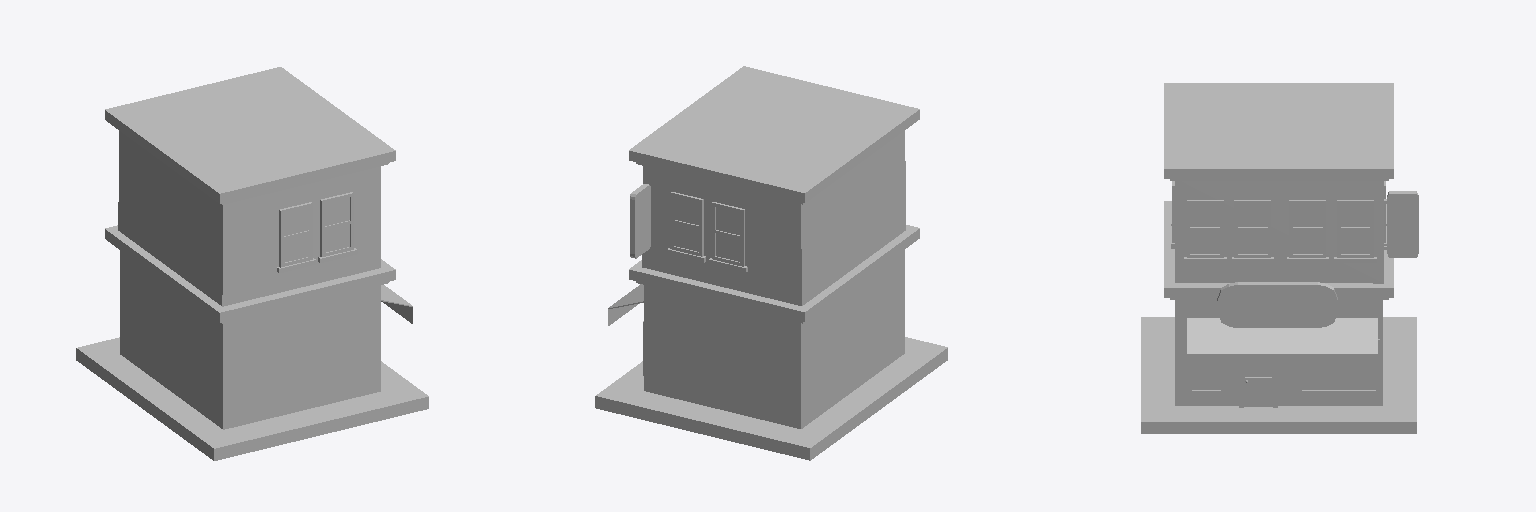
File: edificio1.obj
3 renders of one model, left to right at view 1: azimuth 30°, elevation 25°; view 2: azimuth 150°, elevation 25°; view 3: azimuth 270°, elevation 25°, orthographic.
Parts seen in each view (by area): view 1: polySurface5; view 2: polySurface5; view 3: polySurface5.
Part boxes in pixels (left/top/right/bottom): polySurface5: left=76, top=67, right=428, bottom=460; polySurface5: left=595, top=66, right=947, bottom=460; polySurface5: left=1141, top=83, right=1418, bottom=433.
Bounding box in the file's own units: 26.33 × 28.87 × 28.45.